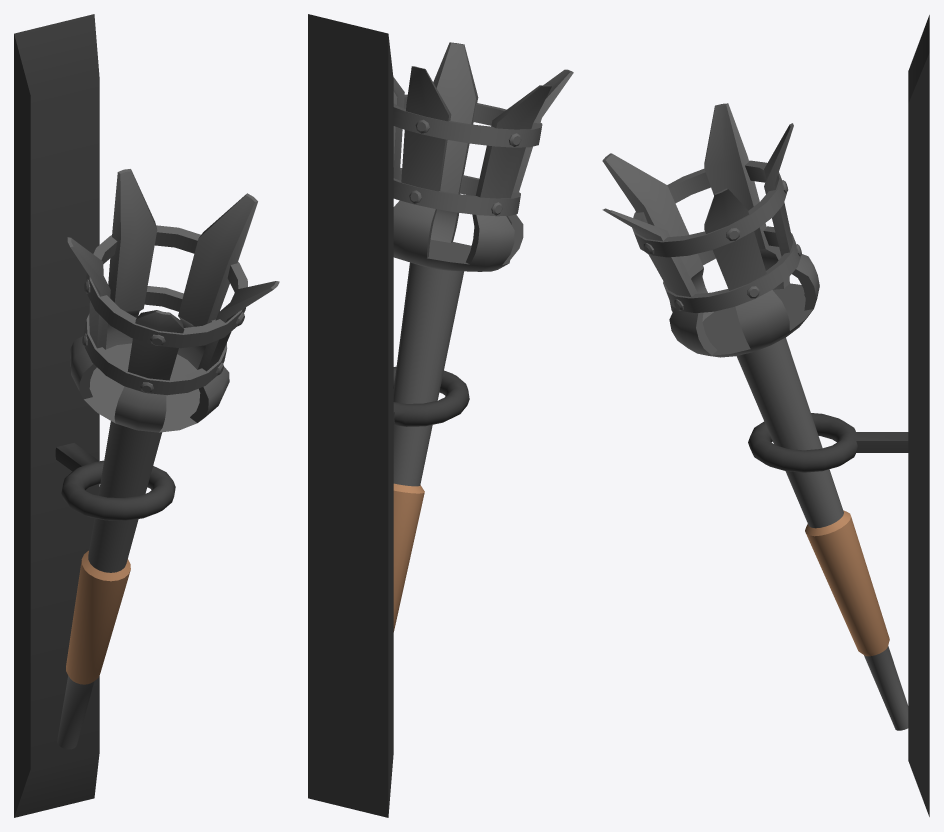
Rendered from torchSconce.fbx.
3 views of the same model, side by side, from view 1: azimuth 30°, elevation 25°; view 2: azimuth 150°, elevation 25°; view 3: azimuth 270°, elevation 25° (orthographic). The views are drawn at different scales.
Visible parts, largest first — view 1: Torch Sconce; view 2: Torch Sconce; view 3: Torch Sconce.
Part boxes in pixels (left/top/right/bottom): Torch Sconce: left=14, top=14, right=279, bottom=817; Torch Sconce: left=308, top=14, right=573, bottom=817; Torch Sconce: left=602, top=15, right=929, bottom=816.
Size of the model in its own units: 15.44 by 23.86 by 61.56.
